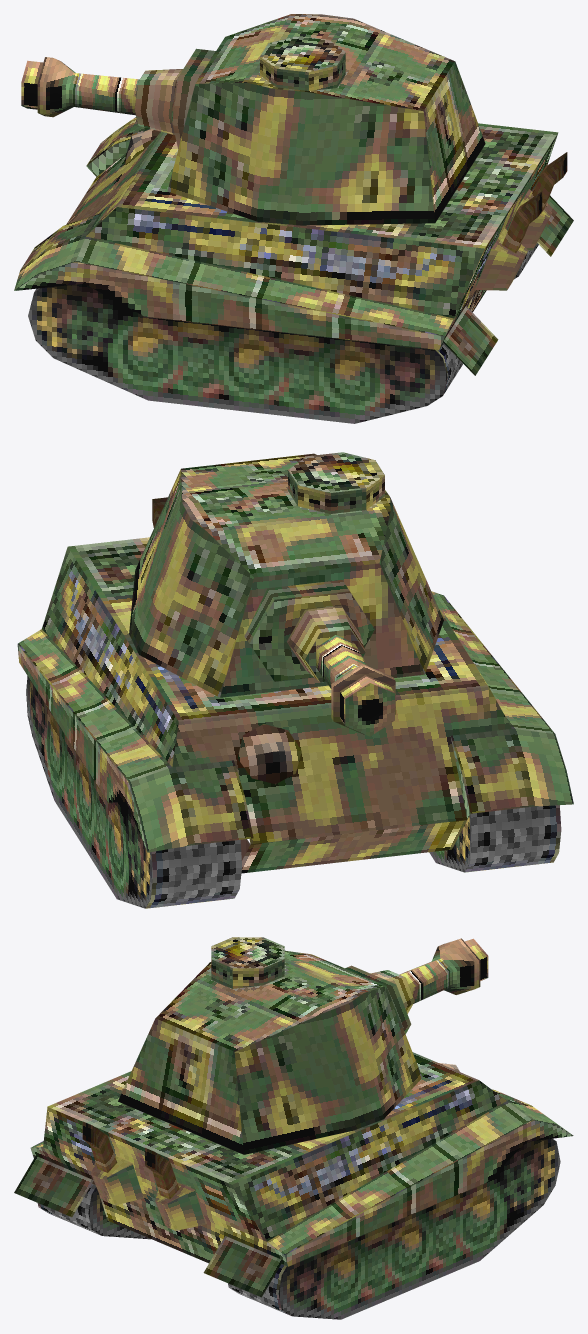
The model's file is ps2_save-icons_seekanddestroy.glb.
The picture shows the model from 3 angles, top to bottom: view 1: azimuth 30°, elevation 25°; view 2: azimuth 150°, elevation 25°; view 3: azimuth 270°, elevation 25°; orthographic projection. The views are drawn at different scales.
Visible parts, largest first — view 1: static.ico; view 2: static.ico; view 3: static.ico.
Part boxes in pixels (x1,y1,x2,y2): static.ico: (14,14,573,423); static.ico: (17,452,573,908); static.ico: (14,937,573,1319).
Size of the model in its own units: 4.41 by 2.41 by 4.41.
1 material, 1 textured.
